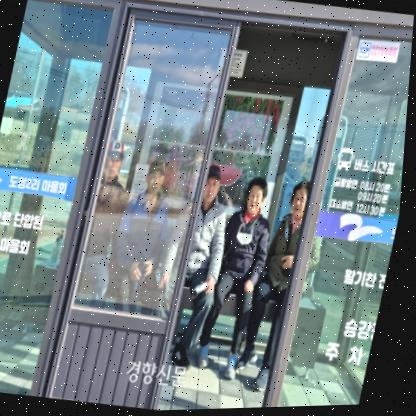person: (248, 166, 334, 383), (204, 168, 284, 364), (63, 128, 146, 316), (160, 163, 240, 349), (112, 158, 187, 312)
